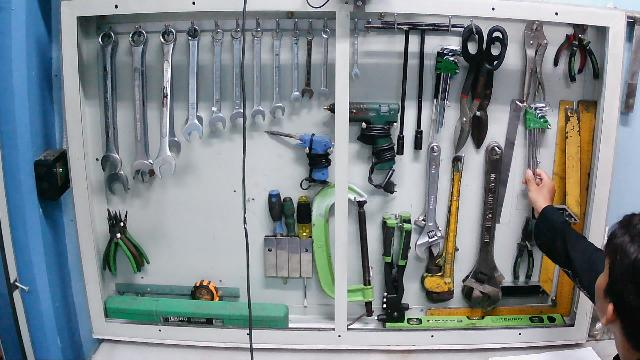kunci_l_bintang: (523, 101, 556, 194)
